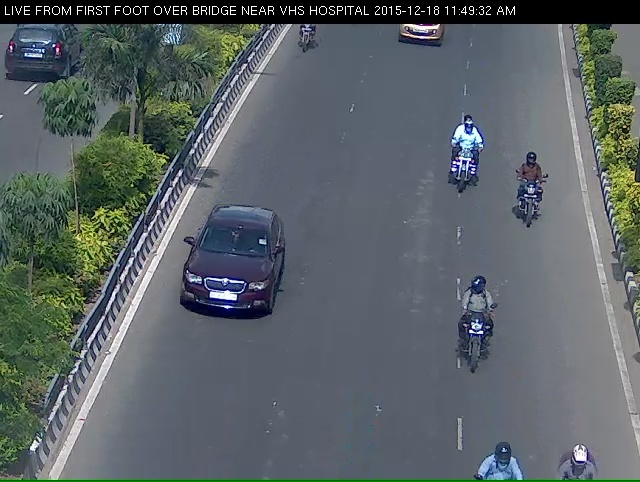Car: (178, 219, 282, 343), (387, 24, 451, 55)
Person: (453, 287, 498, 396), (506, 161, 553, 239), (448, 125, 483, 206)
